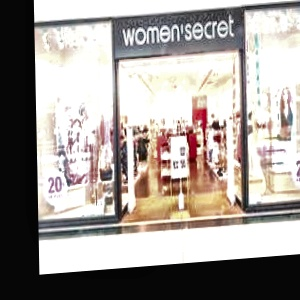women_secret: (198, 0, 279, 38)
